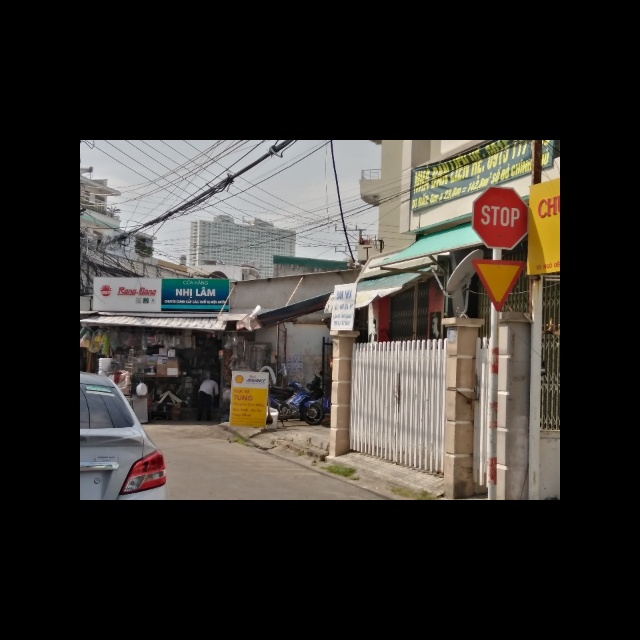Dừng lại: (473, 187, 528, 251)
Giao nhau với đường ưu tiên: (470, 255, 524, 309)
